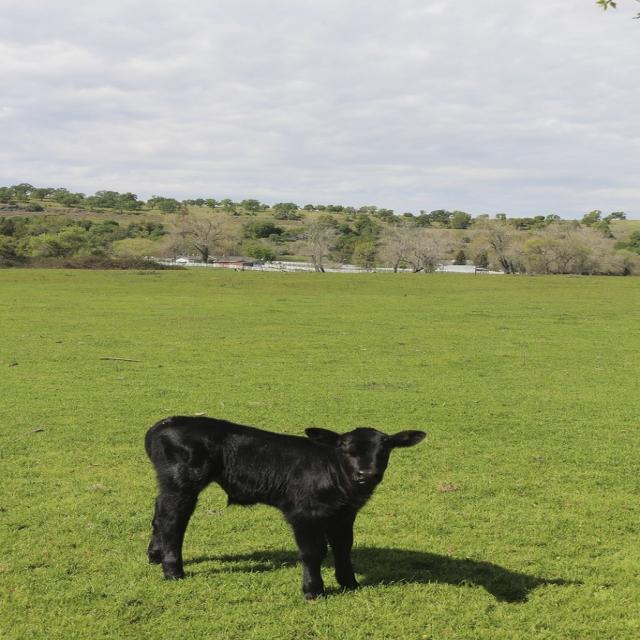Cattle: (154, 413, 419, 592)
